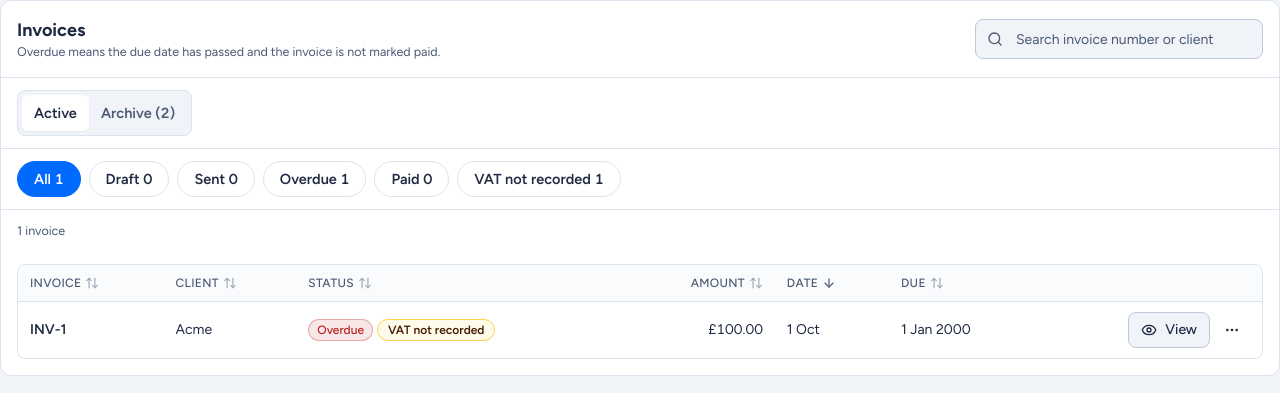
Test case: DocumentsTable › Active | Archive switch: counts, aria-pressed, archived listed newest first with the date, View/Restore/Delete forever only
Later steps or results of the test are not shown.
Expected: the text "1 invoice" is shown, [17,223,65,238]
What coordinates should you click on to do the following:
click the button "Archive (2)"
I would click on:
 (138, 113)
Its box is [89,95,187,131].
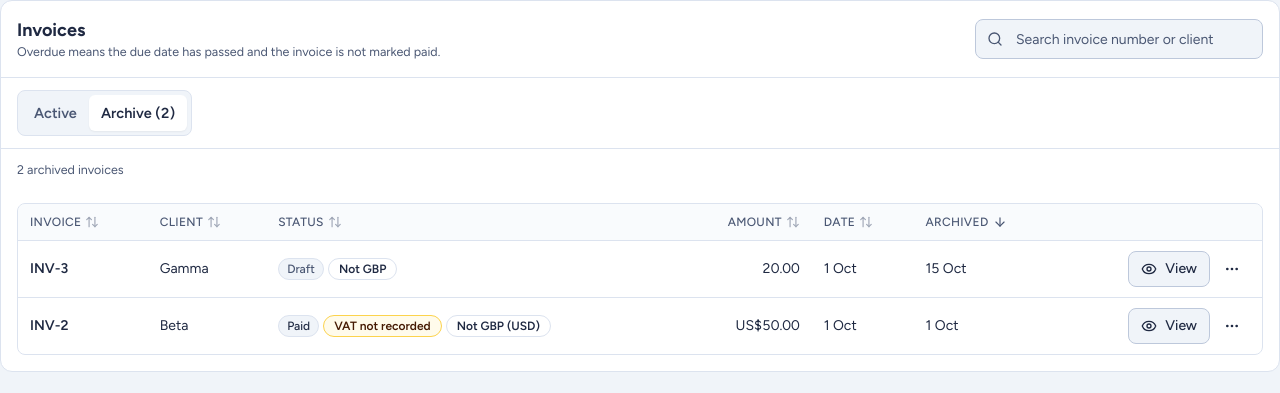
Expected: the text "2 archived invoices" is shown, [17,162,124,177]
Expected: the row "INV-3 Gamma Draft Not GBP 20.00 1 Oct 15 Oct View" is shown, [18,241,1262,298]
Expected: the row that starts with "INV-2" is shown, [30,316,68,336]
